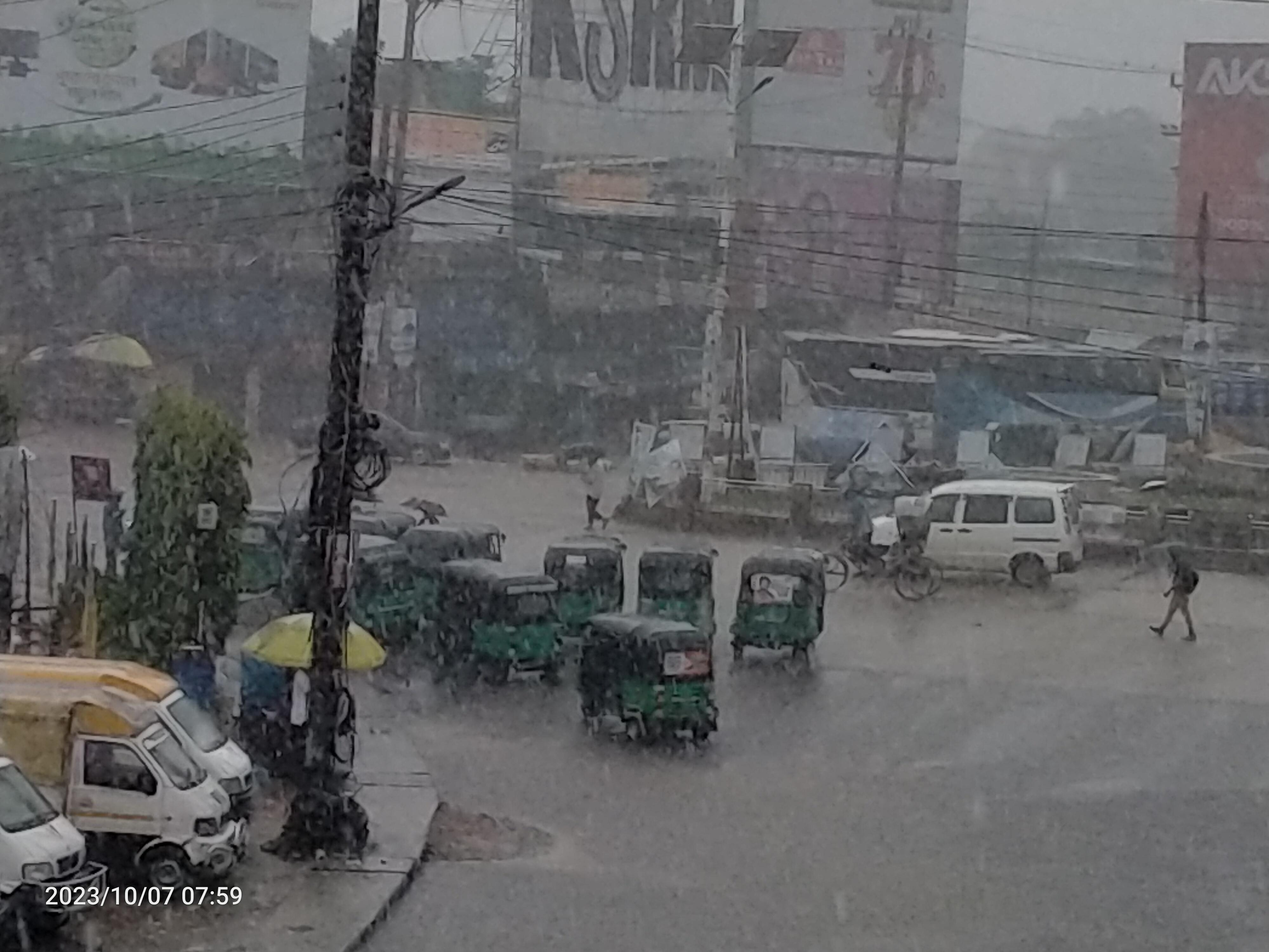Bus: (775, 314, 1177, 483)
Car: (0, 628, 249, 906), (894, 459, 1106, 595), (0, 745, 122, 949), (811, 482, 949, 618)
